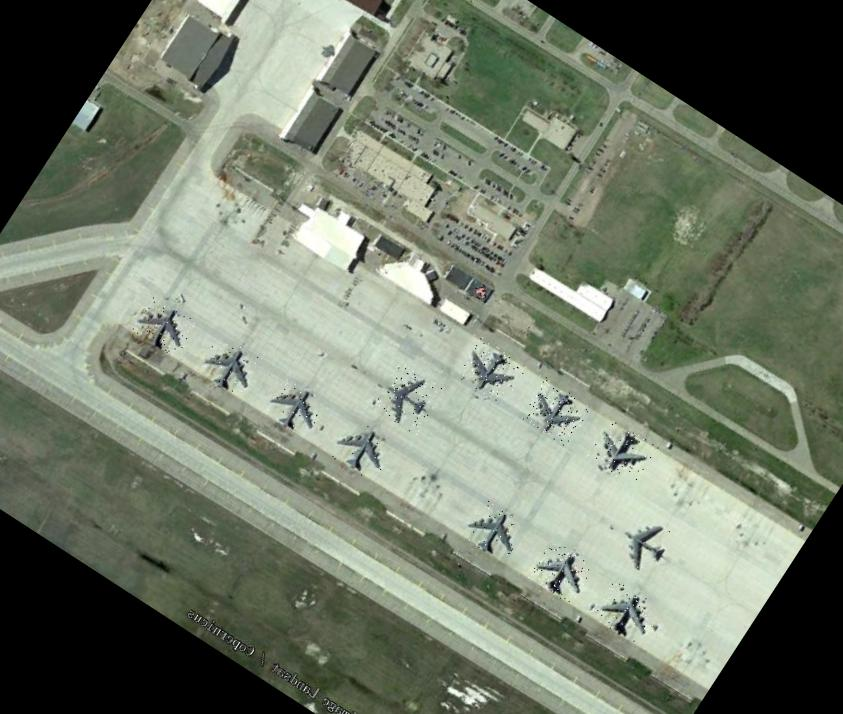A8: (605, 506, 684, 583), (370, 360, 446, 436), (590, 578, 664, 648), (327, 413, 398, 484), (586, 416, 658, 486), (520, 376, 592, 446), (455, 336, 527, 406), (193, 332, 265, 402), (459, 496, 529, 565), (129, 293, 199, 361), (527, 538, 595, 606), (260, 375, 328, 439)
